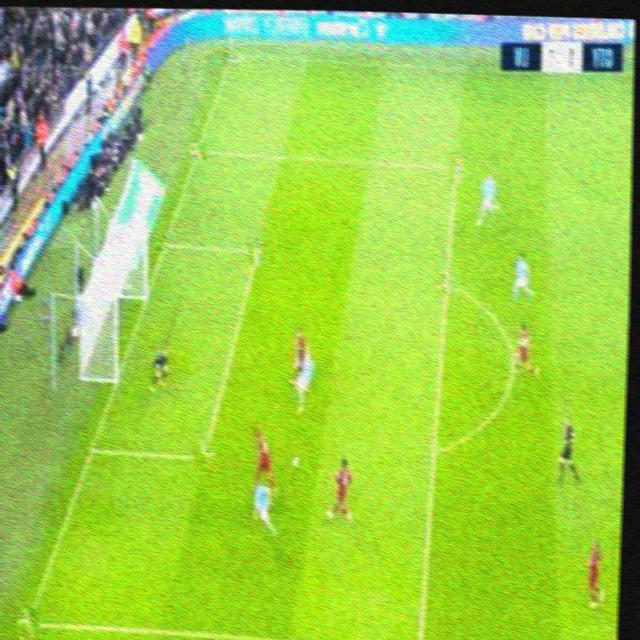bigarea_bottom_inner: (408, 635, 430, 640)
bigarea_bottom_outter: (15, 607, 40, 640)
bigarea_top_inner: (447, 151, 464, 181)
bigarea_top_outter: (188, 142, 207, 159)
bottom_arc_area_intersection: (421, 435, 449, 463)
corner: (221, 46, 239, 65)
smallarea_bottom_inner: (192, 440, 214, 472)
smallarea_bottom_outter: (83, 437, 101, 461)
smallarea_top_inner: (248, 238, 266, 264)
smallarea_top_outter: (153, 232, 176, 256)
top_arc_area_intersection: (435, 272, 458, 294)
